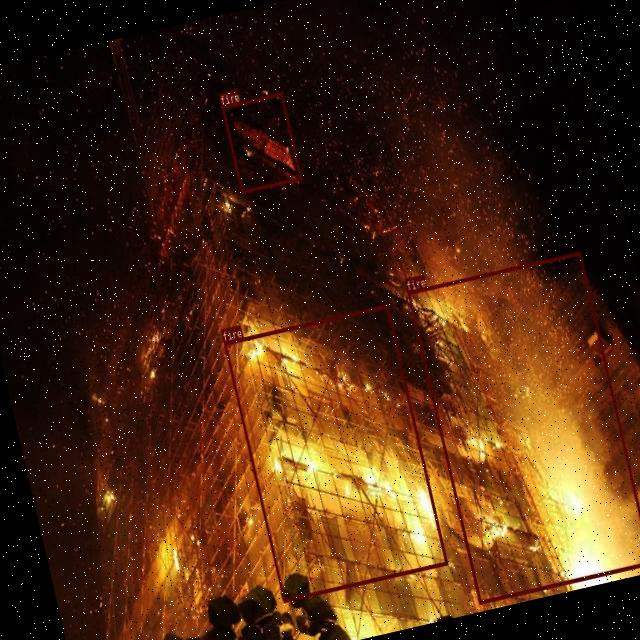fire: (406, 250, 640, 603), (222, 303, 448, 601), (220, 91, 302, 192)
